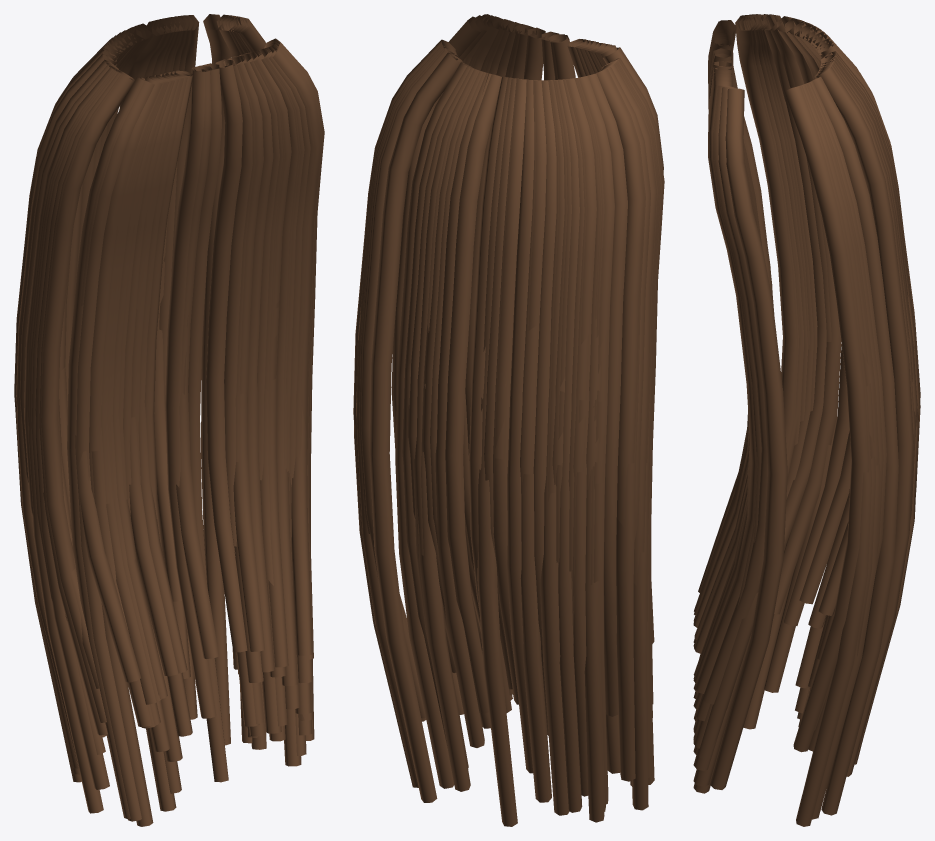
The model's file is hair-long.glb.
The picture shows the model from 3 angles, left to right: view 1: azimuth 30°, elevation 25°; view 2: azimuth 150°, elevation 25°; view 3: azimuth 270°, elevation 25°; orthographic projection. The views are drawn at different scales.
Visible parts, largest first — view 1: lock; view 2: lock; view 3: lock.
Boxes of the visible parts, box(x1,y1,x2,y2) form: lock: box(14, 14, 324, 826); lock: box(353, 14, 664, 826); lock: box(693, 14, 920, 826).
Size of the model in its own units: 0.2736 by 0.7211 by 0.2038.
